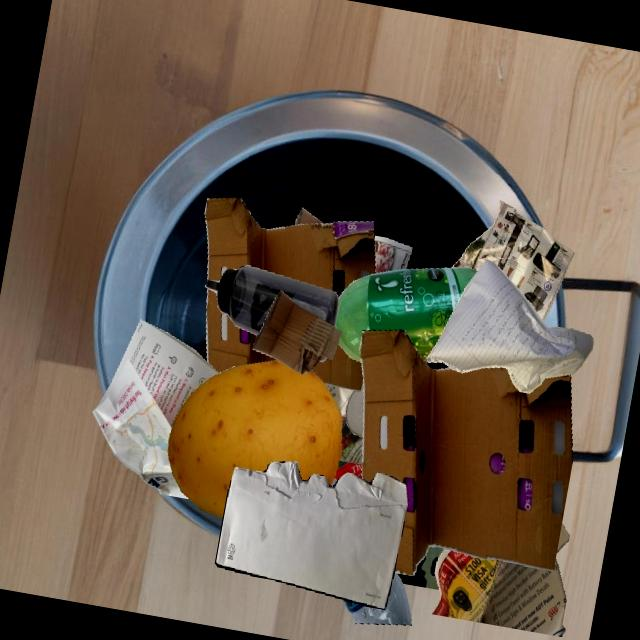biowaste: (167, 360, 341, 518)
cardboard: (359, 330, 572, 576), (204, 197, 374, 298), (215, 266, 337, 352), (252, 289, 340, 374), (206, 287, 277, 373), (294, 208, 323, 225)
glass: (345, 383, 363, 437)
paper: (214, 461, 408, 609), (92, 319, 218, 499), (426, 259, 593, 393), (451, 200, 574, 321), (431, 548, 566, 636), (325, 384, 362, 465), (361, 273, 374, 437), (396, 546, 444, 589), (374, 235, 412, 273), (334, 459, 362, 480)
plastic: (334, 267, 477, 362), (205, 264, 338, 335), (341, 572, 411, 625)
